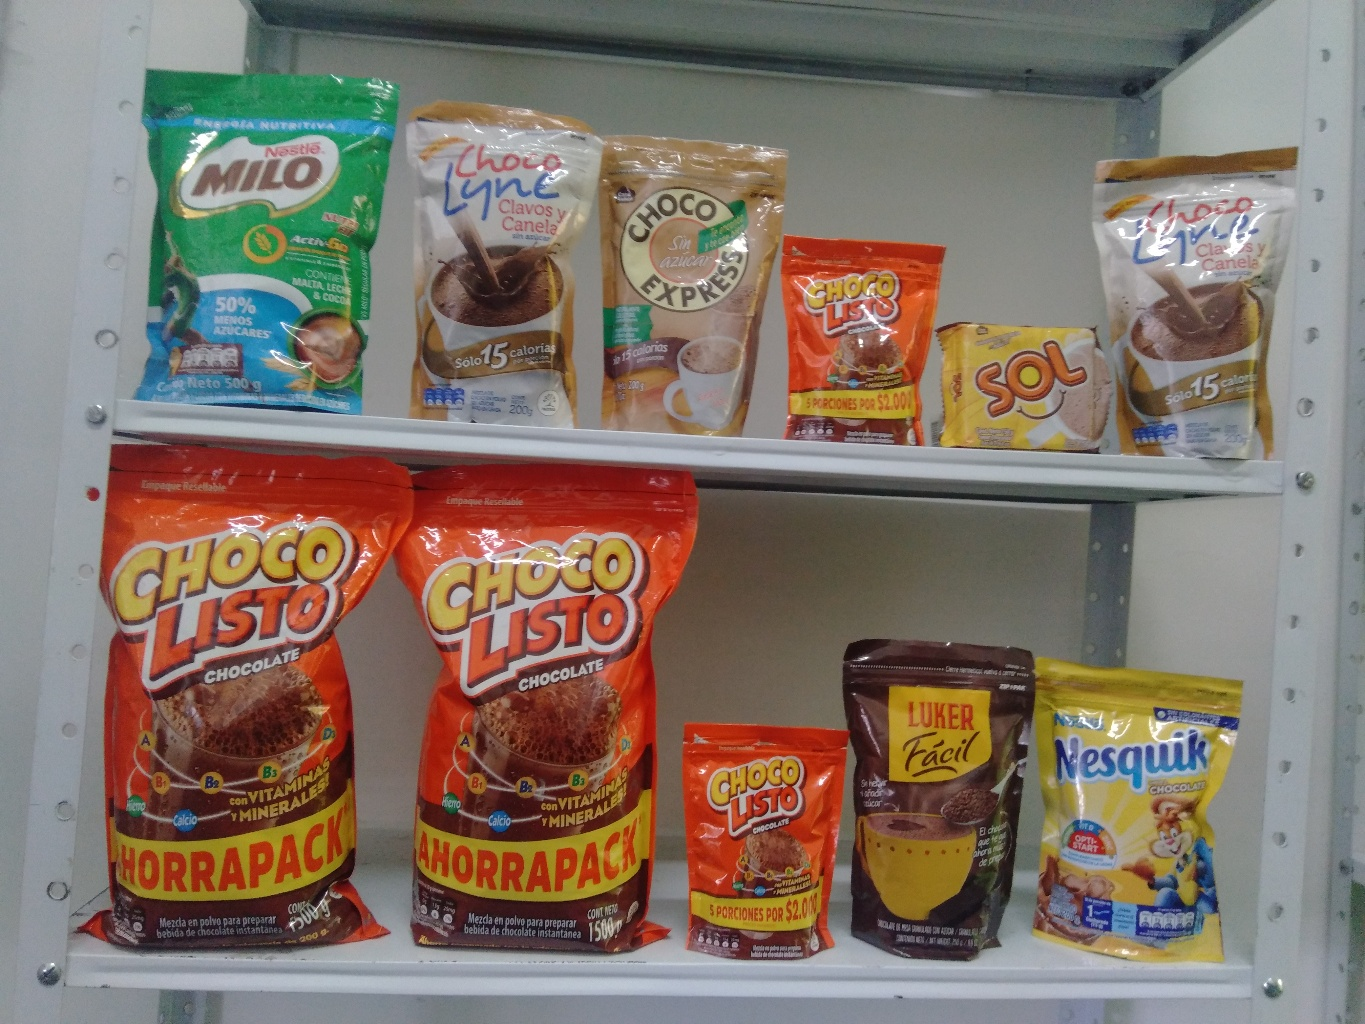COL0170103DYP1,500: (83, 438, 406, 952)
COL0170205DYP50000: (145, 63, 386, 406)
COL0170303DYP20000: (1025, 662, 1239, 990)
